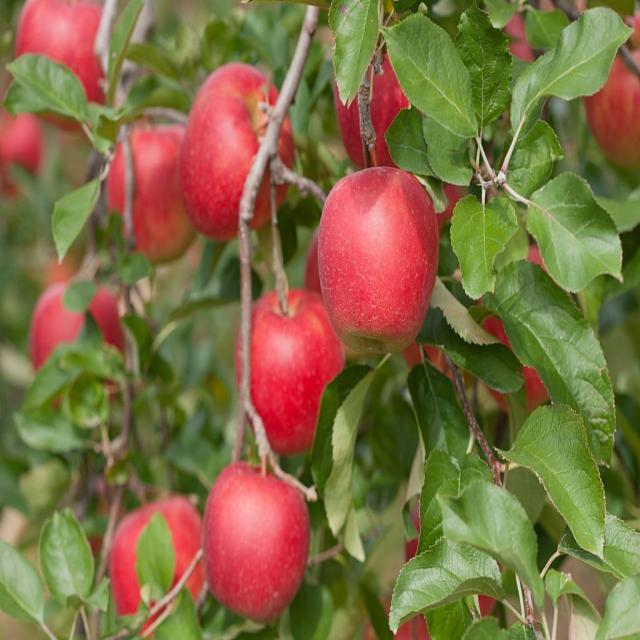Red Apple: (319, 160, 443, 331), (207, 451, 318, 622), (188, 71, 293, 234), (112, 494, 212, 628), (110, 109, 202, 249), (252, 290, 338, 439), (35, 283, 129, 409), (19, 1, 109, 124), (337, 37, 422, 162), (482, 289, 556, 409), (590, 20, 640, 161), (1, 90, 42, 190), (409, 322, 469, 388), (501, 7, 548, 91), (369, 608, 434, 640), (403, 506, 437, 558), (469, 583, 501, 617)
